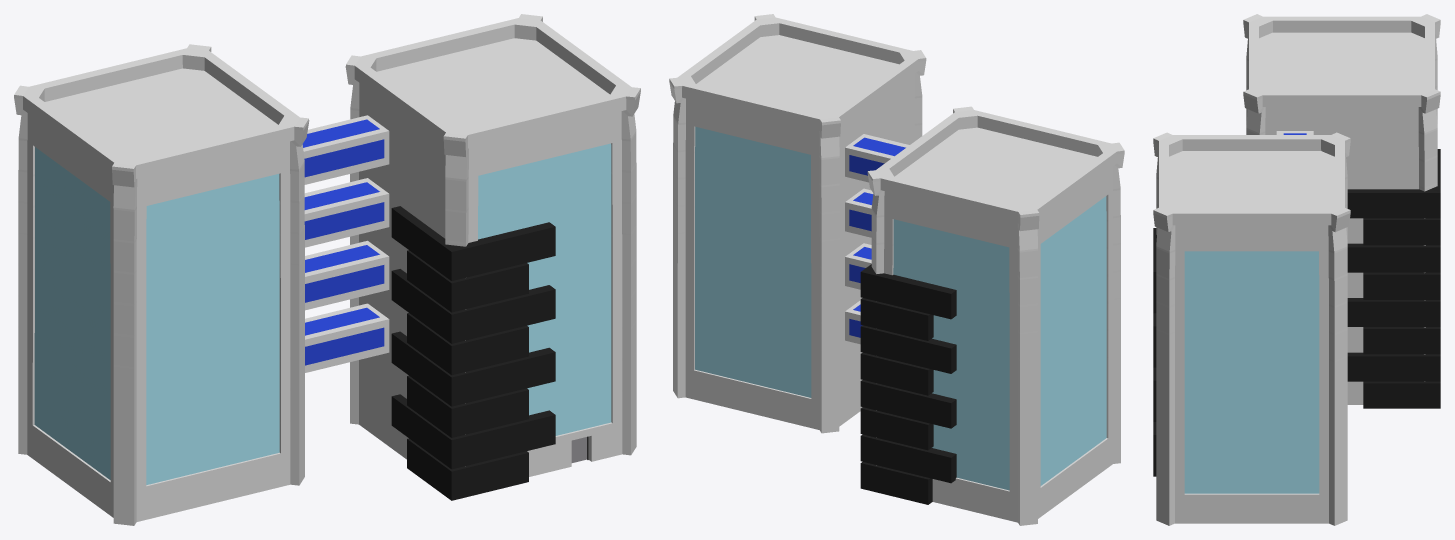
Rendered from skyrise_double.fbx.
3 views of the same model, side by side, from view 1: azimuth 30°, elevation 25°; view 2: azimuth 150°, elevation 25°; view 3: azimuth 270°, elevation 25° (orthographic). The views are drawn at different scales.
Visible parts, largest first — view 1: skyrise_double; view 2: skyrise_double; view 3: skyrise_double.
Part boxes in pixels (x1=…): skyrise_double: x1=14, y1=14, x2=640, y2=525; skyrise_double: x1=669, y1=14, x2=1124, y2=525; skyrise_double: x1=1153, y1=14, x2=1440, y2=525.
Bounding box in the file's own units: 4773 × 3431 × 2873.
